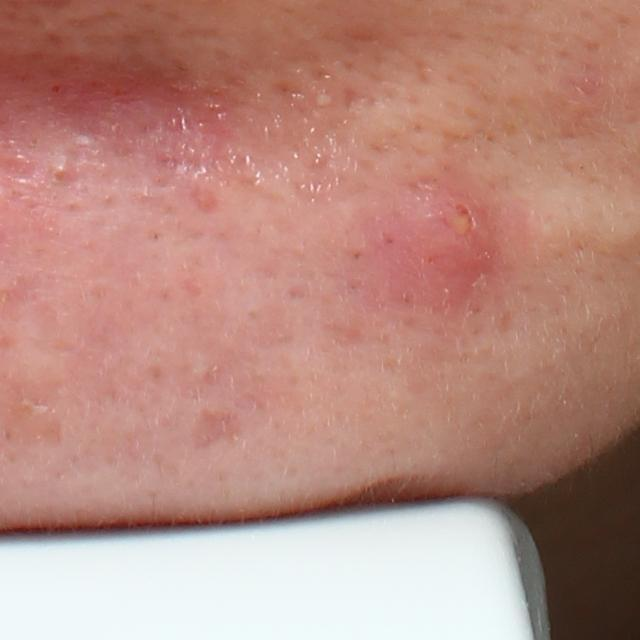atrophic_scar: (191, 407, 244, 453)
papule: (48, 160, 70, 180)
pustule: (384, 186, 518, 302)
